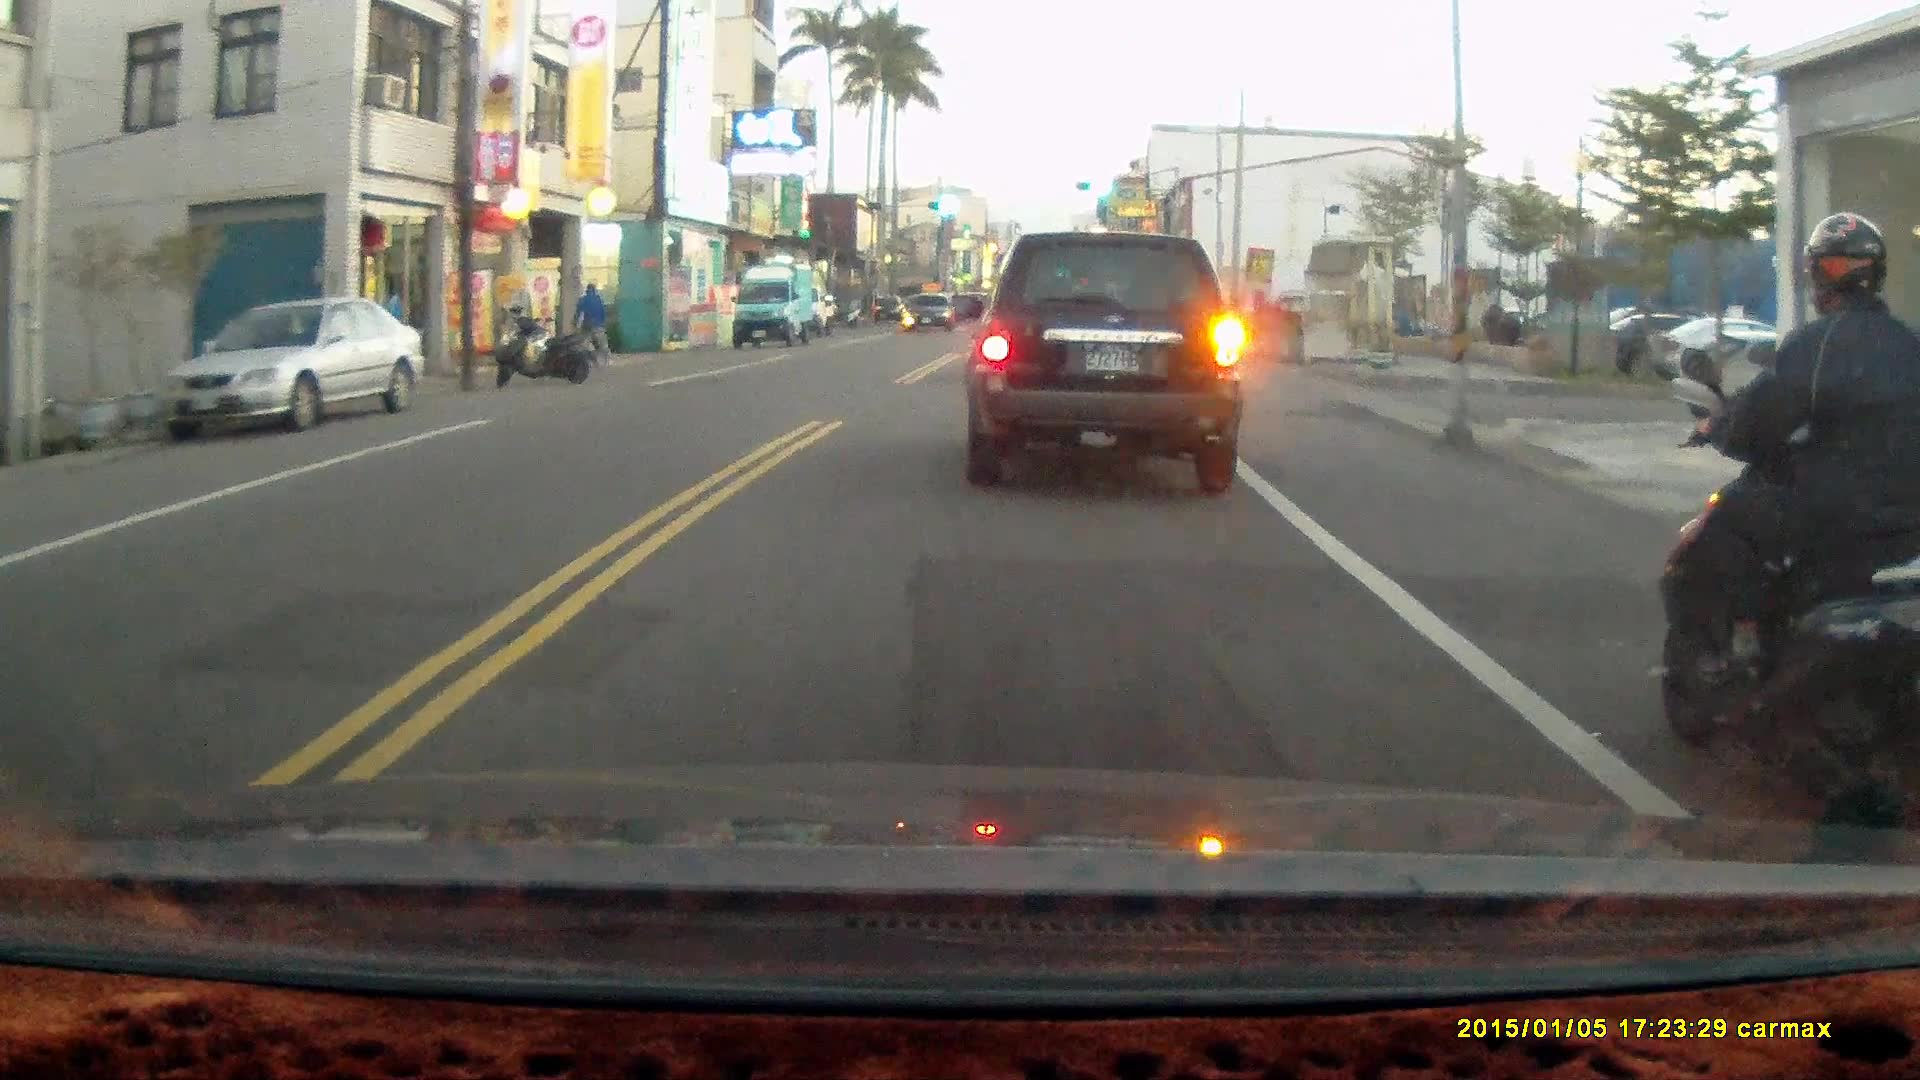pedestrian: (572, 279, 613, 369)
rider: (1653, 211, 1920, 871)
vehicle: (969, 229, 1249, 502), (160, 296, 427, 434), (1685, 332, 1901, 424), (732, 259, 816, 348), (903, 295, 958, 333)
